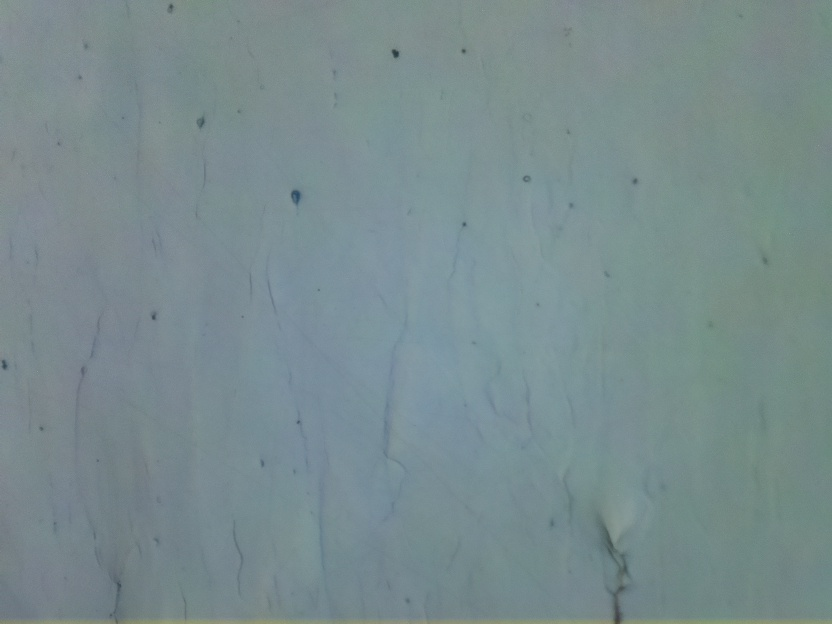crack: (604, 541, 643, 624)
